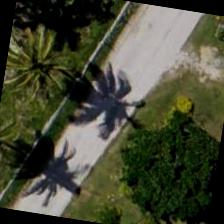Kelapa_Sawit: (0, 16, 91, 116)
